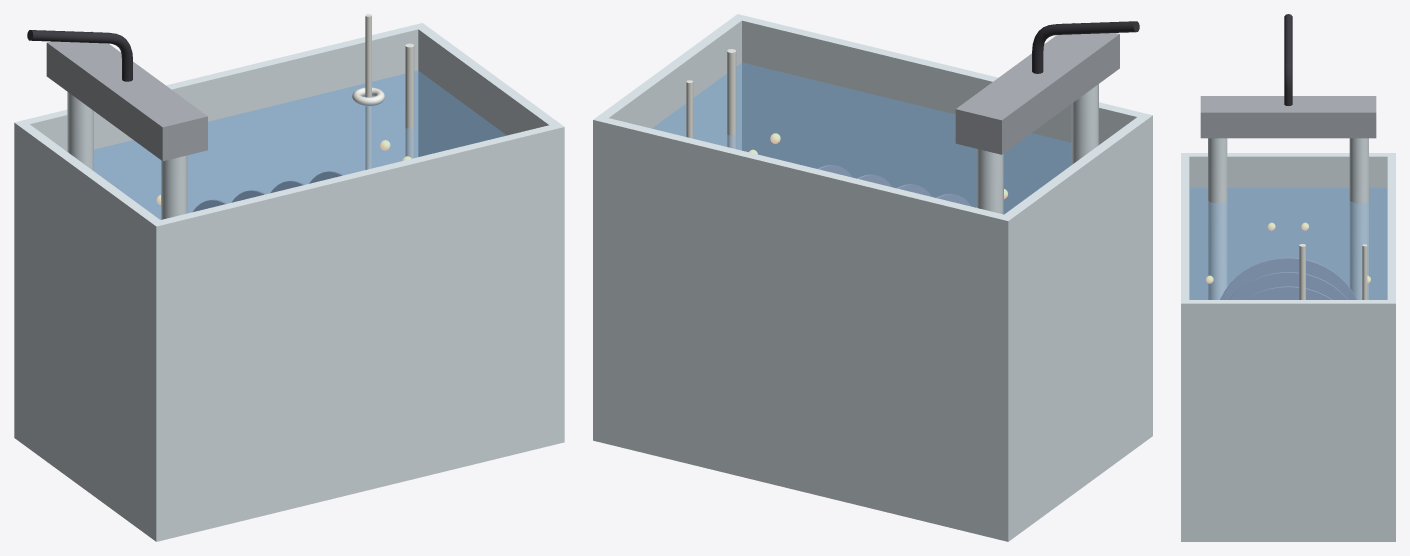
File: immersion.glb
3 views of the same model, side by side, from view 1: azimuth 30°, elevation 25°; view 2: azimuth 150°, elevation 25°; view 3: azimuth 270°, elevation 25° (orthographic). The views are drawn at different scales.
Visible parts, largest first — view 1: 处理槽_前, 处理槽_左, 处理槽_后, 药液, 处理槽_右, 端子盒, 处理槽_底, 石英护套, 电源线, 控温传感器, 液位导杆; view 2: 处理槽_后, 处理槽_左, 处理槽_前, 药液, 处理槽_右, 端子盒, 处理槽_底, 石英护套, 电源线, 控温传感器; view 3: 处理槽_右, 药液, 处理槽_左, 端子盒, 石英护套, 晶圆0, 处理槽_底, 晶圆1, 处理槽_前, 处理槽_后, 电源线, 晶圆2 (+2 smaller).
Boxes of the visible parts, box(x1,y1,x2,y2) form: 处理槽_前: box(161, 125, 554, 529); 处理槽_左: box(14, 120, 165, 531); 处理槽_后: box(24, 25, 418, 219); 药液: box(94, 70, 506, 219); 处理槽_右: box(413, 23, 564, 434); 端子盒: box(46, 31, 207, 161); 处理槽_底: box(14, 428, 564, 541); 石英护套: box(67, 92, 187, 219); 电源线: box(27, 30, 132, 81); 控温传感器: box(405, 43, 414, 158); 液位导杆: box(365, 14, 371, 169); 处理槽_后: box(603, 118, 1003, 528); 处理槽_左: box(998, 113, 1152, 531); 处理槽_前: box(742, 16, 1142, 214); 药液: box(652, 62, 1071, 214); 处理槽_右: box(593, 14, 746, 432); 端子盒: box(955, 23, 1119, 154); 处理槽_底: box(593, 426, 1152, 541); 石英护套: box(976, 84, 1098, 214); 电源线: box(1032, 21, 1139, 73); 控温传感器: box(727, 49, 736, 148); 处理槽_右: box(1181, 300, 1395, 534); 药液: box(1190, 187, 1386, 299); 处理槽_左: box(1181, 153, 1395, 299); 端子盒: box(1200, 96, 1376, 138); 石英护套: box(1208, 138, 1368, 299); 晶圆0: box(1220, 257, 1356, 299); 处理槽_底: box(1181, 534, 1395, 541); 晶圆1: box(1229, 272, 1347, 299); 处理槽_前: box(1181, 156, 1189, 299); 处理槽_后: box(1387, 156, 1395, 299); 电源线: box(1284, 14, 1292, 105); 晶圆2: box(1244, 286, 1332, 299).
Size of the model in its own units: 1.43 by 1.39 by 0.76.
